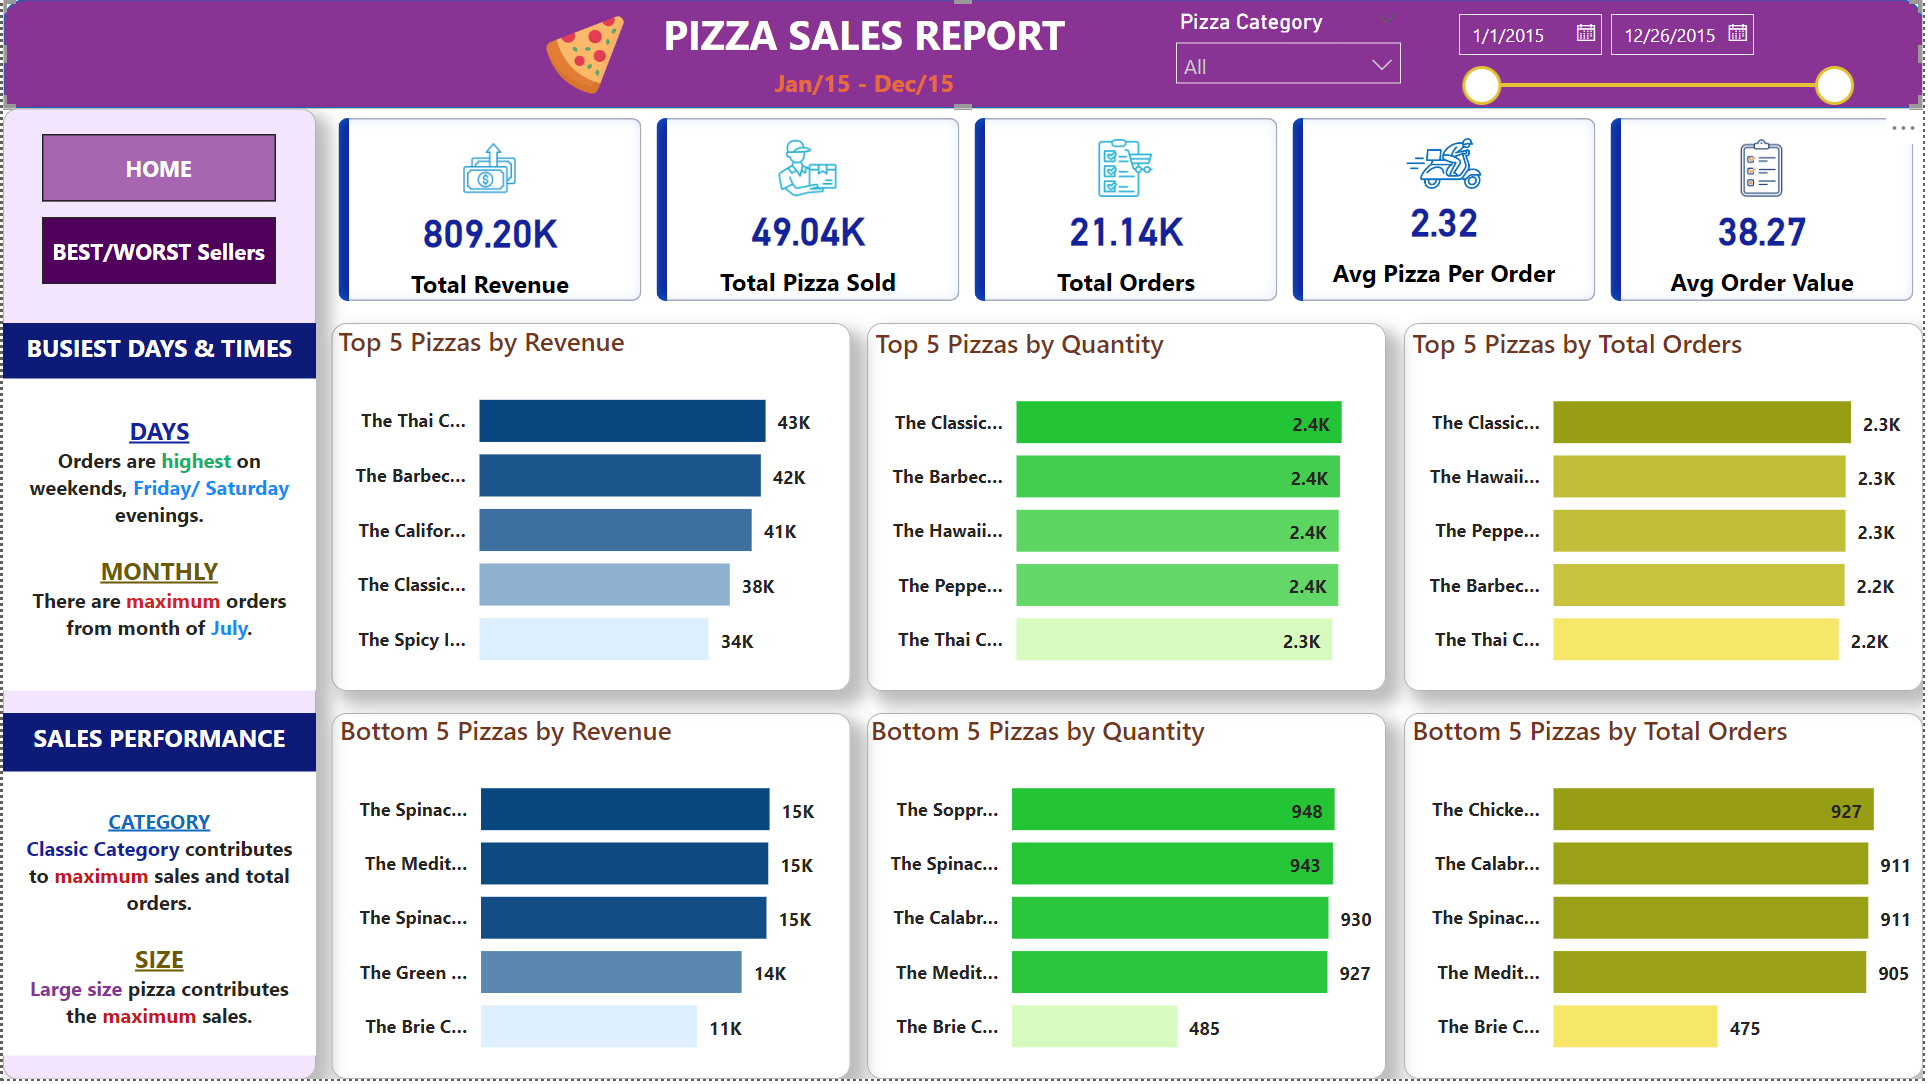

This screenshot's page, from the dashboard's own definition file:
{"tool":"powerbi","page":{"name":"BEST/WORST Sellers","canvas":[1280,720],"ordinal":1},"visuals":[{"type":"cardVisual","fields":{"Data":["pizza_sales.Total Revenue","pizza_sales.Total Pizza Sold","pizza_sales.Total Orders","pizza_sales.Avg Pizza Per Order","pizza_sales.Avg Order Value"]},"box":[218.8,73.8,1061.2,132.3],"z":0},{"type":"shape","title":"Pizza ","box":[0,0,1280,73.3],"z":1000},{"type":"textbox","box":[399.5,0,349.9,47.1],"z":2000},{"type":"textbox","box":[489.9,39.4,169.2,33.1],"z":3000},{"type":"image","box":[355,5.1,66.2,63.6],"z":4000},{"type":"shape","box":[218.8,216.3,346.1,244.3],"z":5000},{"type":"shape","box":[0,72.5,208.7,647.6],"z":6000},{"type":"textbox","box":[0,216.3,208.7,36.9],"z":7000},{"type":"textbox","box":[0,253.2,208.7,187],"z":8000},{"type":"textbox","box":[0,475.9,208.7,39.4],"z":9000},{"type":"textbox","box":[0,515.3,208.7,185.8],"z":10000},{"type":"slicer","fields":{"Values":["pizza_sales.pizza_category"]},"box":[772.3,1.3,169.2,71.3],"z":11000},{"type":"slicer","fields":{"Values":["pizza_sales.order_date"]},"box":[958.1,0,287.6,72.5],"z":12000},{"type":"shape","box":[576.4,216.3,346.1,244.3],"z":13000},{"type":"shape","box":[933.9,216.3,346.1,244.3],"z":14000},{"type":"shape","box":[218.8,475.9,346.1,244.3],"z":15000},{"type":"shape","box":[576.4,475.9,346.1,244.3],"z":16000},{"type":"shape","box":[933.9,475.9,346.1,244.3],"z":17000},{"type":"clusteredBarChart","title":"Top 5 Pizzas by Revenue","fields":{"Y":["pizza_sales.Total Revenue"],"Category":["pizza_sales.pizza_name"]},"box":[218.8,216.3,346.1,244.3],"z":18000},{"type":"clusteredBarChart","title":"Bottom 5 Pizzas by Revenue","fields":{"Y":["pizza_sales.Total Revenue"],"Category":["pizza_sales.pizza_name"]},"box":[220,475,345.2,244.4],"z":19000},{"type":"clusteredBarChart","title":"Top 5 Pizzas by Quantity","fields":{"Y":["pizza_sales.Total Pizza Sold"],"Category":["pizza_sales.pizza_name"]},"box":[577.4,216.9,345.2,244.4],"z":20000},{"type":"clusteredBarChart","title":"Bottom 5 Pizzas by Quantity","fields":{"Y":["pizza_sales.Total Pizza Sold"],"Category":["pizza_sales.pizza_name"]},"box":[574.3,475,345.2,244.4],"z":21000},{"type":"clusteredBarChart","title":"Top 5 Pizzas by Total Orders","fields":{"Y":["pizza_sales.Total Orders"],"Category":["pizza_sales.pizza_name"]},"box":[934.8,216.9,345.2,244.4],"z":22000},{"type":"clusteredBarChart","title":"Bottom 5 Pizzas by Total Orders","fields":{"Y":["pizza_sales.Total Orders"],"Category":["pizza_sales.pizza_name"]},"box":[934.8,475,345.2,244.4],"z":23000},{"type":"pageNavigator","box":[25.6,90,156.7,101.1],"z":24000}]}

Visuals, with their boxes in screenshot pixels (x1, y1, x2, y2), scaled from the page's 1280x720 canvas onto the 1928x1084 screenshot:
cardVisual - pizza_sales.Total Revenue x pizza_sales.Total Pizza Sold: locate(330, 111, 1927, 310)
"Pizza " shape: locate(0, 0, 1927, 110)
textbox: locate(602, 0, 1129, 71)
textbox: locate(738, 59, 993, 109)
image: locate(535, 8, 634, 103)
shape: locate(330, 326, 851, 693)
shape: locate(0, 109, 314, 1083)
textbox: locate(0, 326, 314, 381)
textbox: locate(0, 381, 314, 663)
textbox: locate(0, 716, 314, 776)
textbox: locate(0, 776, 314, 1056)
slicer - pizza_sales.pizza_category: locate(1163, 2, 1418, 109)
slicer - pizza_sales.order_date: locate(1443, 0, 1876, 109)
shape: locate(868, 326, 1390, 693)
shape: locate(1407, 326, 1927, 693)
shape: locate(330, 716, 851, 1083)
shape: locate(868, 716, 1390, 1083)
shape: locate(1407, 716, 1927, 1083)
"Top 5 Pizzas by Revenue" clusteredBarChart: locate(330, 326, 851, 693)
"Bottom 5 Pizzas by Revenue" clusteredBarChart: locate(331, 715, 851, 1083)
"Top 5 Pizzas by Quantity" clusteredBarChart: locate(870, 327, 1390, 695)
"Bottom 5 Pizzas by Quantity" clusteredBarChart: locate(865, 715, 1385, 1083)
"Top 5 Pizzas by Total Orders" clusteredBarChart: locate(1408, 327, 1927, 695)
"Bottom 5 Pizzas by Total Orders" clusteredBarChart: locate(1408, 715, 1927, 1083)
pageNavigator: locate(39, 136, 275, 288)
